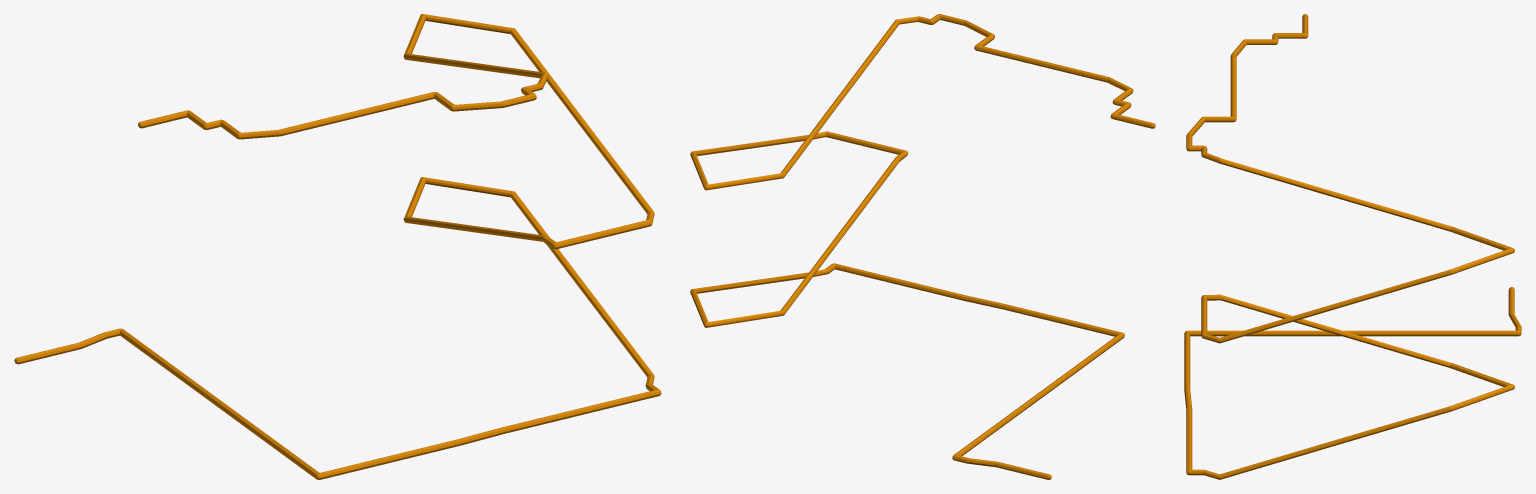
3 renders of one model, left to right at view 1: azimuth 30°, elevation 25°; view 2: azimuth 150°, elevation 25°; view 3: azimuth 270°, elevation 25°, orthographic. The views are drawn at different scales.
Size of the model in its own units: 1492 by 1020 by 1120.
